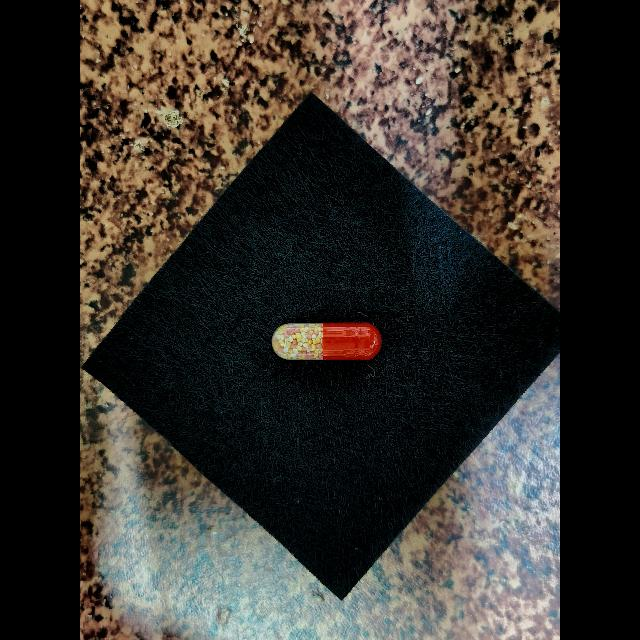Intact Capsule: (272, 323, 382, 360)
